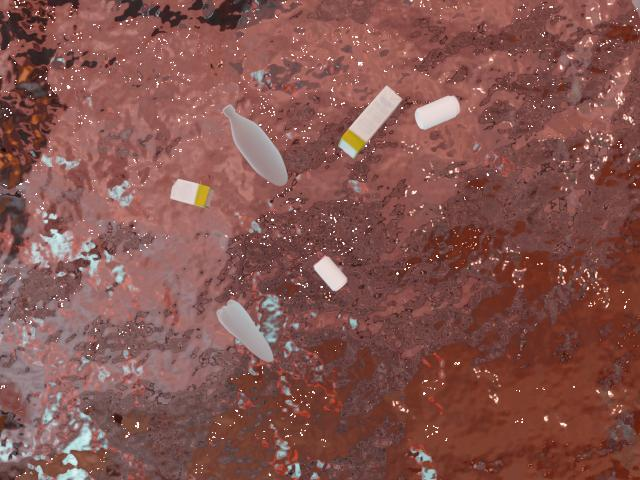Metal: (291, 246, 363, 330), (406, 82, 466, 160)
Plastic: (219, 84, 293, 179), (212, 274, 278, 378)
Trash: (328, 60, 402, 180), (141, 171, 233, 225)
